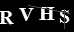H: (38, 6, 56, 21)
R: (1, 9, 14, 25)
S: (58, 9, 70, 24)
V: (17, 7, 34, 21)
